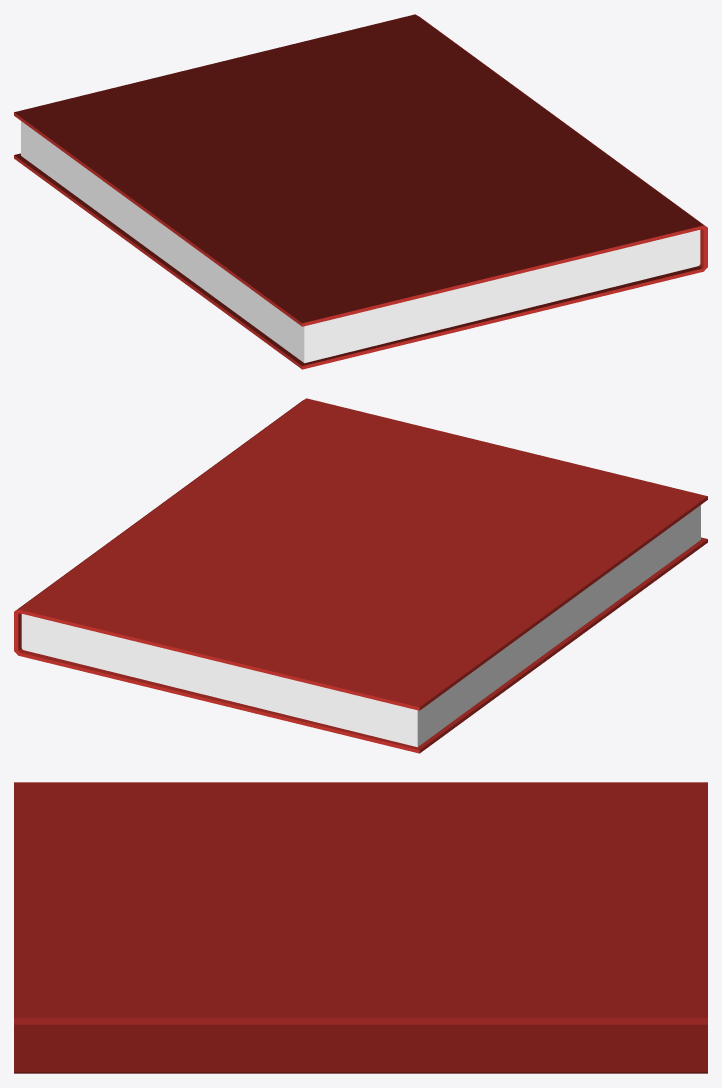
The model's file is Book 9.fbx.
The picture shows the model from 3 angles, top to bottom: view 1: azimuth 30°, elevation 25°; view 2: azimuth 150°, elevation 25°; view 3: azimuth 270°, elevation 25°; orthographic projection. The views are drawn at different scales.
Parts seen in each view (by area): view 1: Node 0; view 2: Node 0; view 3: Node 0.
Boxes of the visible parts, x1,y1,x2,y2 form: Node 0: (14, 14, 707, 369); Node 0: (14, 398, 707, 753); Node 0: (14, 782, 707, 1073).
Bounding box in the file's own units: 0.2635 × 0.0233 × 0.214.
